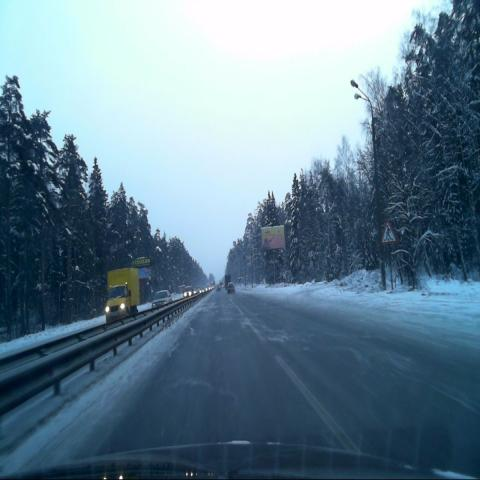1_22: (380, 220, 396, 244)
